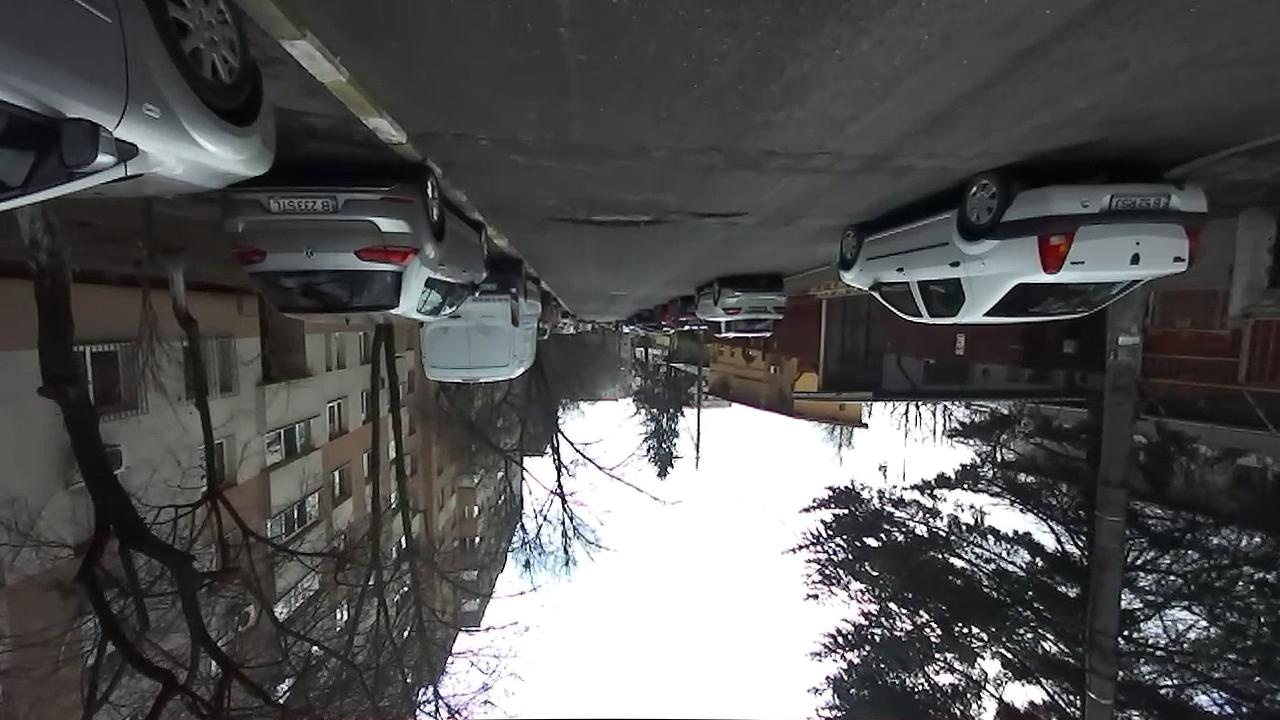pothole: (543, 209, 669, 230), (684, 208, 749, 222)
